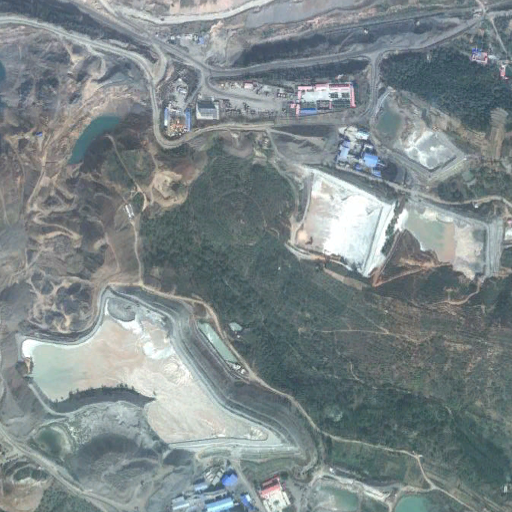tp: (17, 284, 315, 471), (289, 169, 396, 282), (371, 86, 471, 186), (398, 193, 505, 283)
